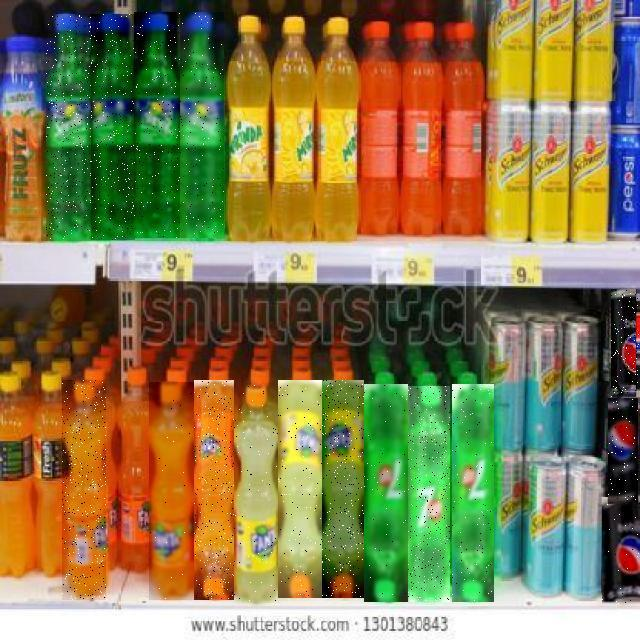Drinks: (134, 13, 180, 239), (90, 14, 135, 240), (46, 15, 91, 241), (179, 13, 224, 239), (149, 382, 194, 600), (234, 383, 278, 603), (63, 380, 107, 600), (364, 384, 408, 602), (278, 380, 322, 598), (407, 386, 450, 602), (452, 384, 494, 602), (322, 380, 364, 598), (195, 380, 235, 600), (602, 498, 640, 606), (608, 398, 638, 504), (612, 289, 640, 397)
